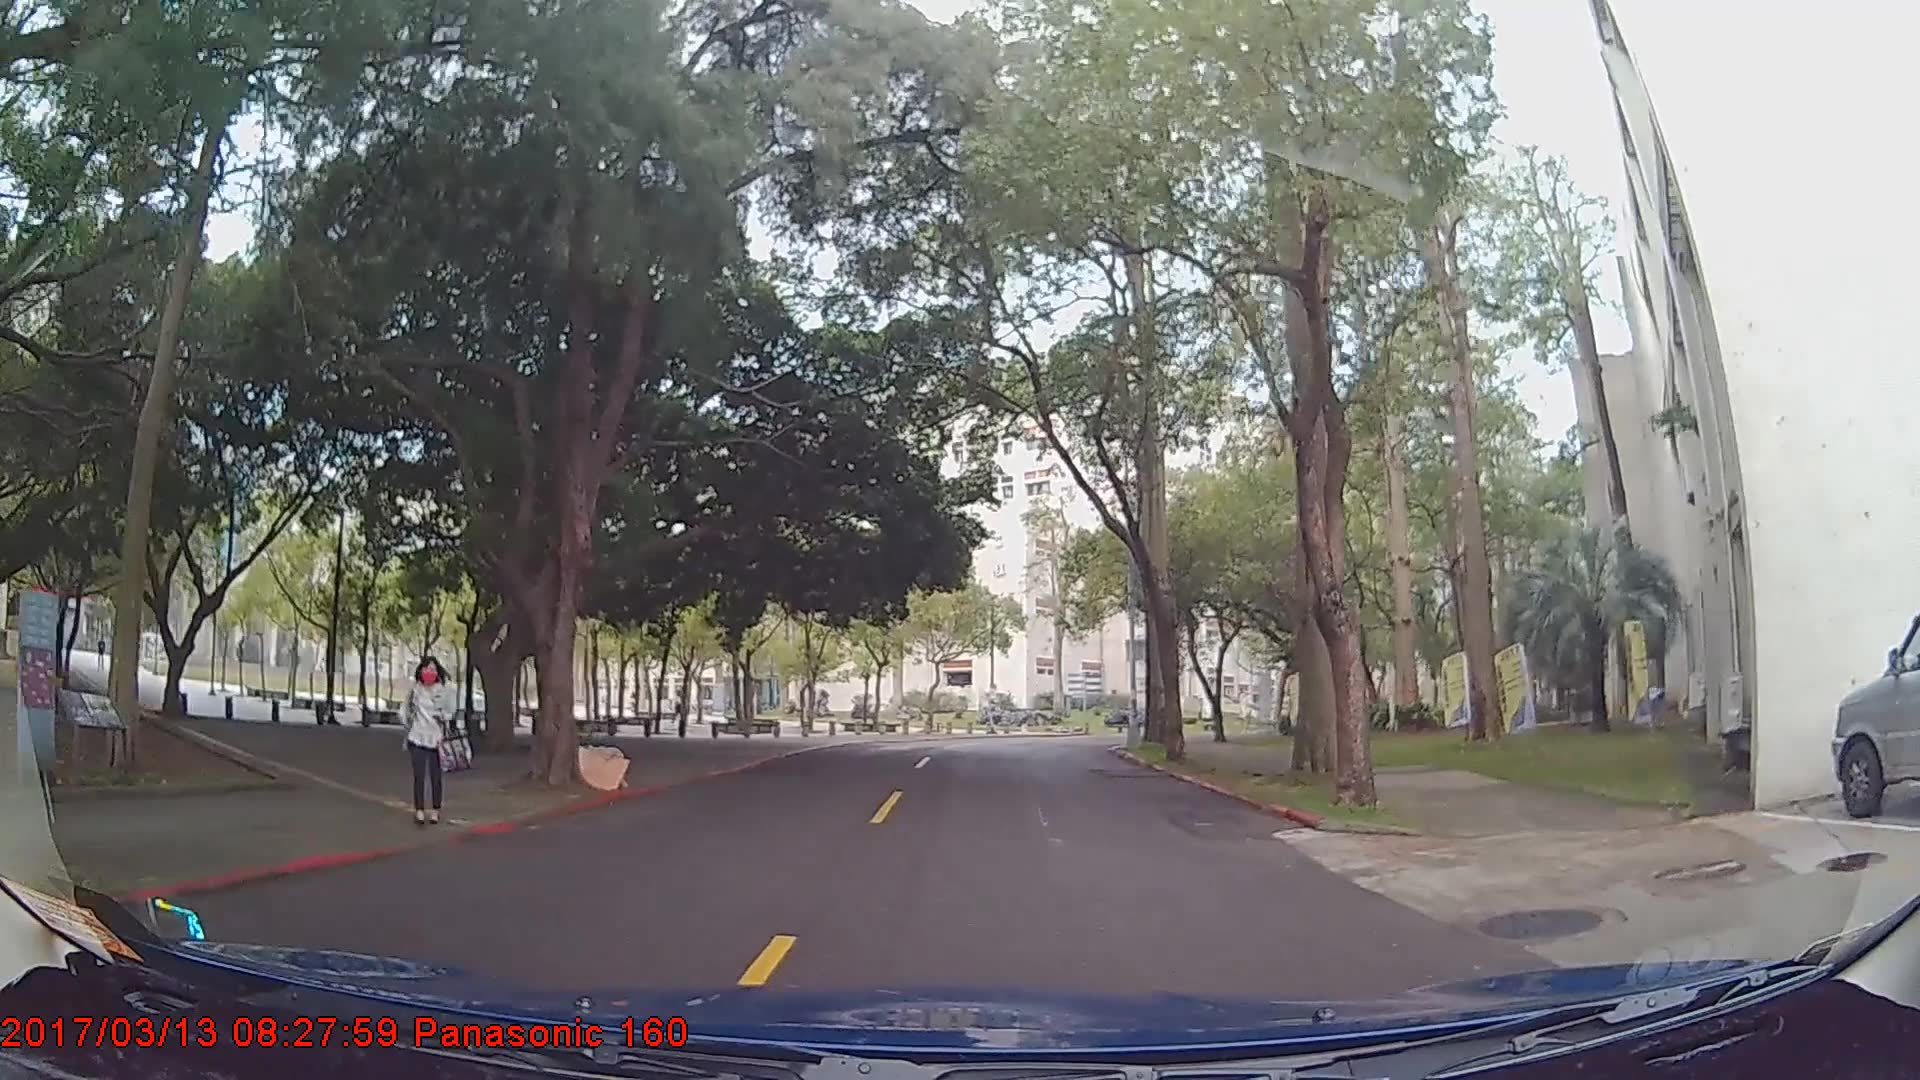pedestrian: (397, 653, 471, 828)
vehicle: (1832, 605, 1920, 821)
